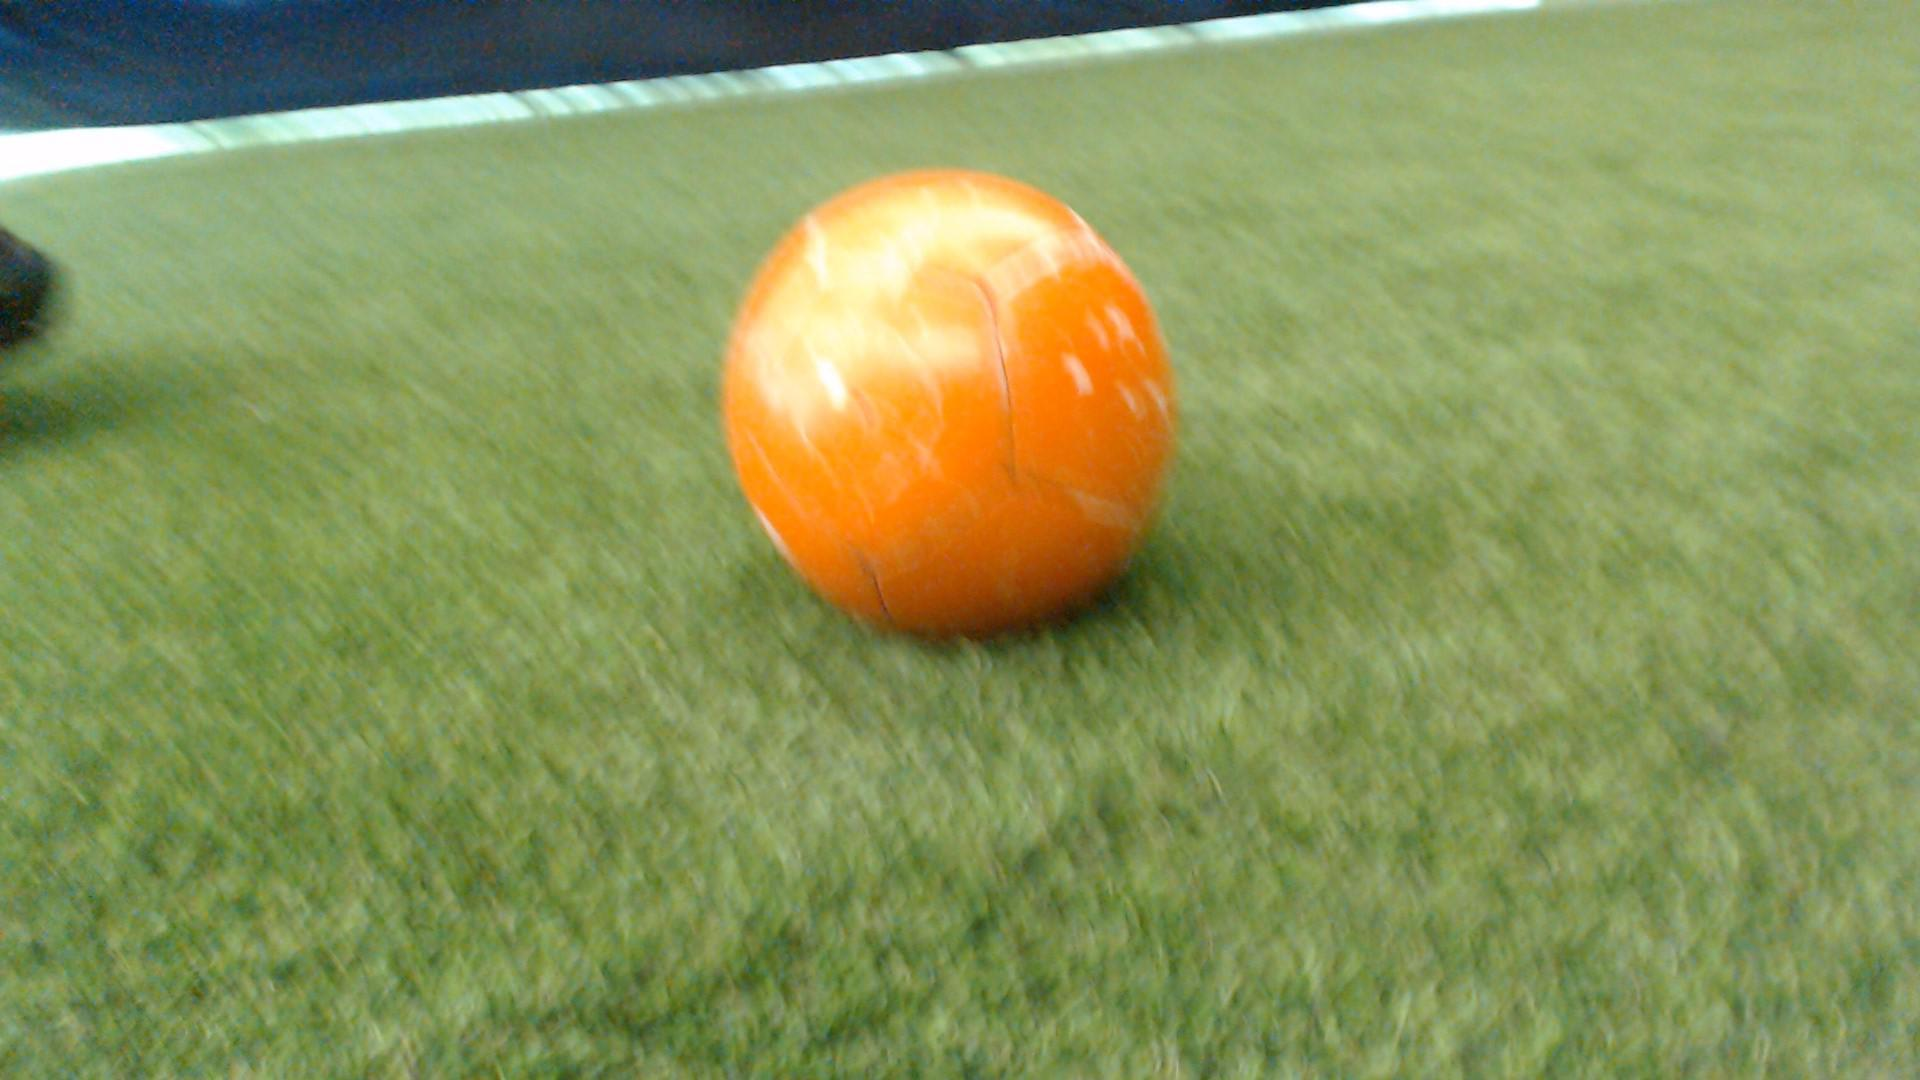bola: (680, 137, 1247, 659)
